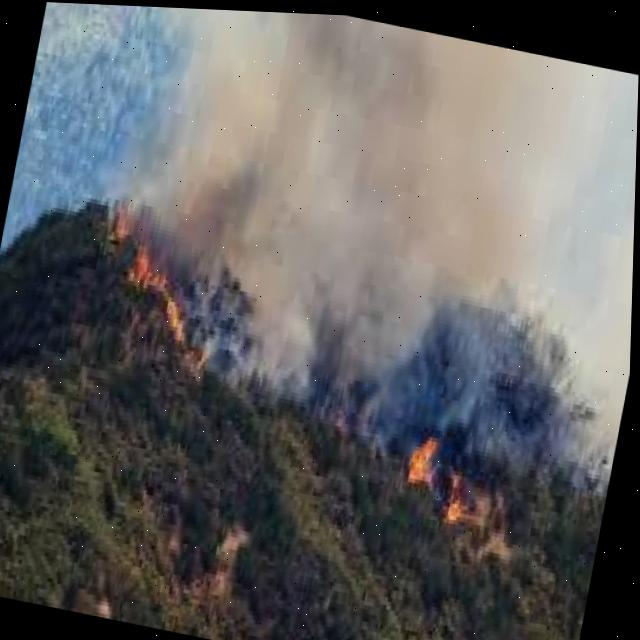fire: (127, 241, 194, 346), (405, 430, 446, 500)
smoke: (151, 7, 554, 377)
